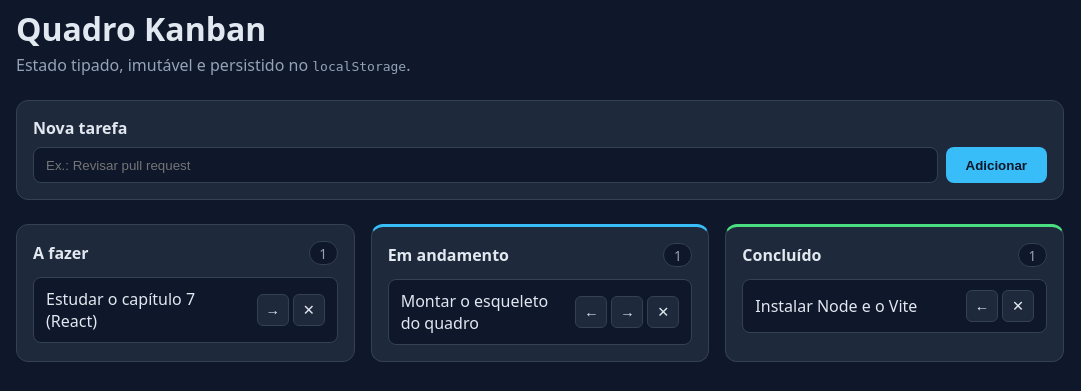
Test case: Quadro Kanban — mover e excluir › exclui tarefa e atualiza a contagem
Click the button named "Excluir \"Estudar o capítulo 7 (React)\"". click: click(309, 310)
box: x1=293 y1=294 x2=325 y2=326
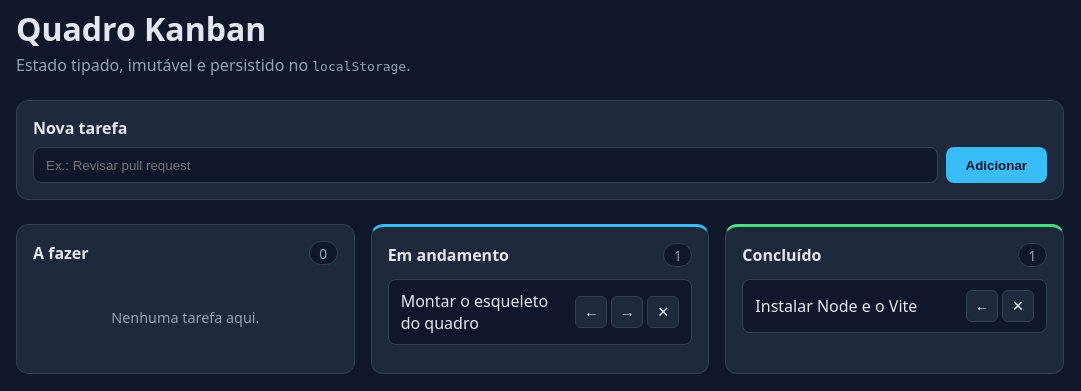
Expected: the text "Estudar o capítulo 7 (React)" is gone
